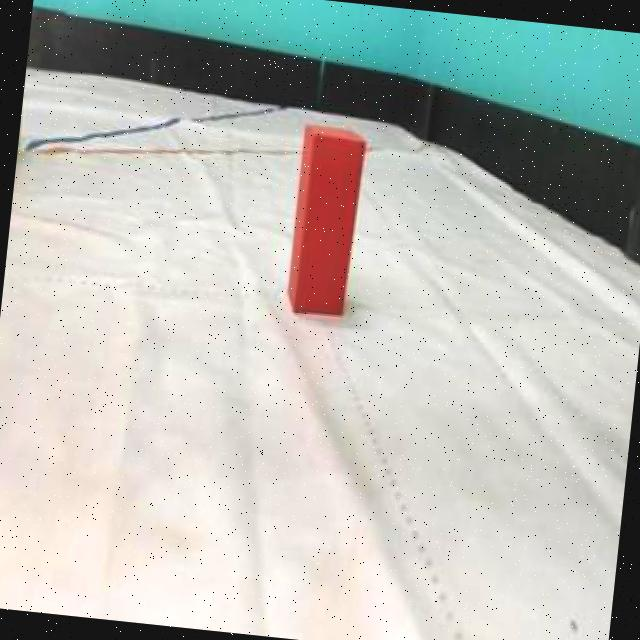redbox: (286, 121, 367, 316)
